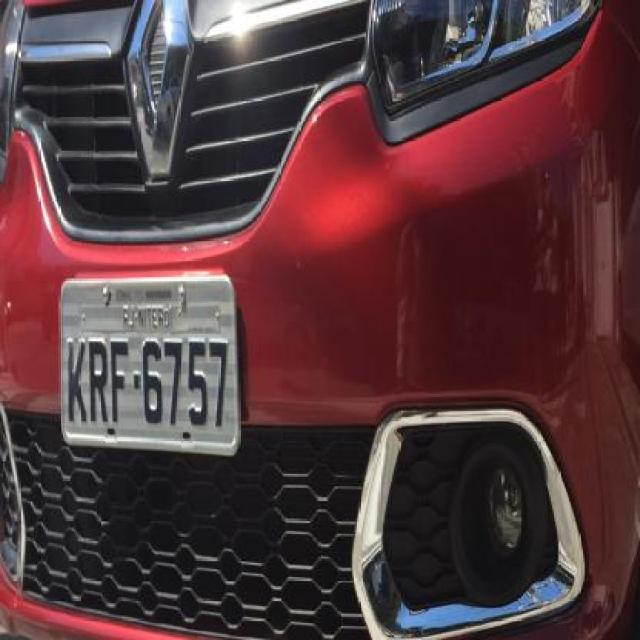old_plate: (49, 268, 250, 464)
